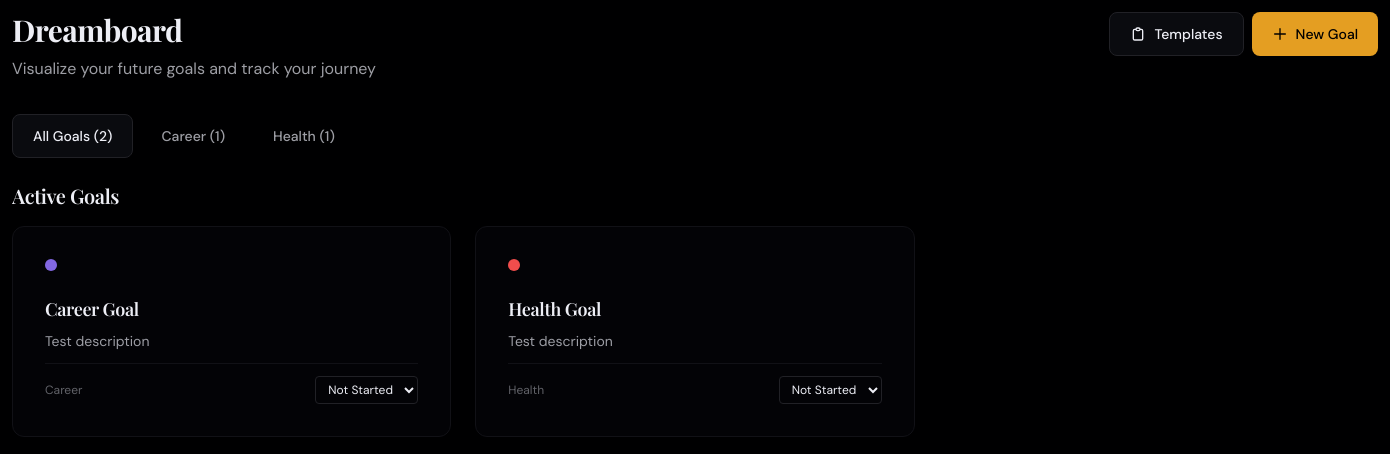
Integration Tests - Data Flow › DreamboardView Data Flow › maintains filter state across database updates
Expected: the heading "Career Goal" is shown, 45,297 -> 139,321
Expected: the heading "Health Goal" is shown, 508,297 -> 601,321
Filter to career only
Click the button "Career (1)".
click(193, 136)  # box 142,114 -> 245,158
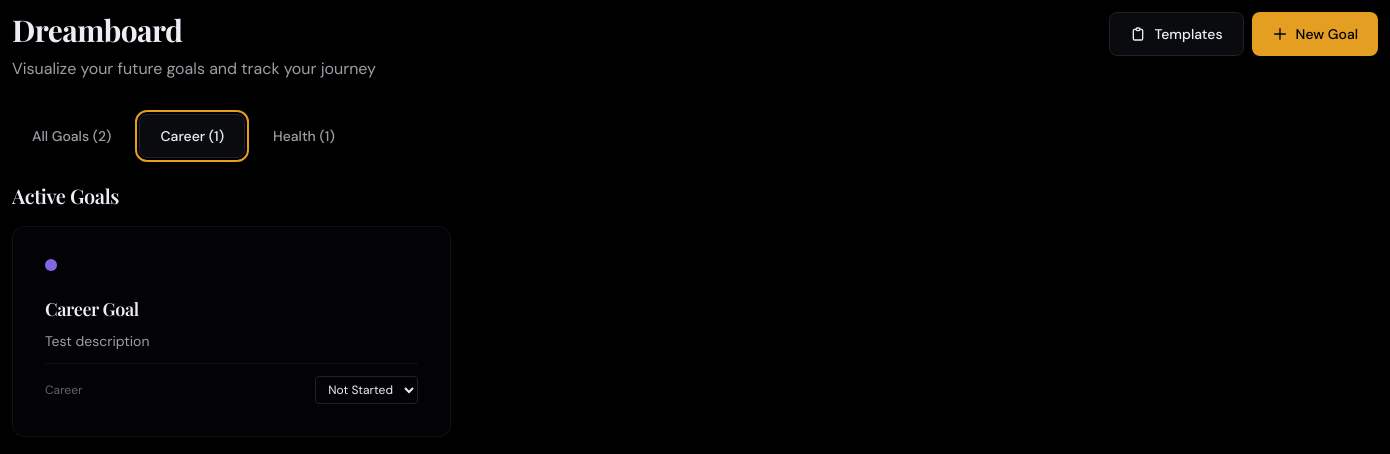
Expected: the heading "Career Goal" is shown, 45,297 -> 139,321
Expected: the heading "Health Goal" is gone
